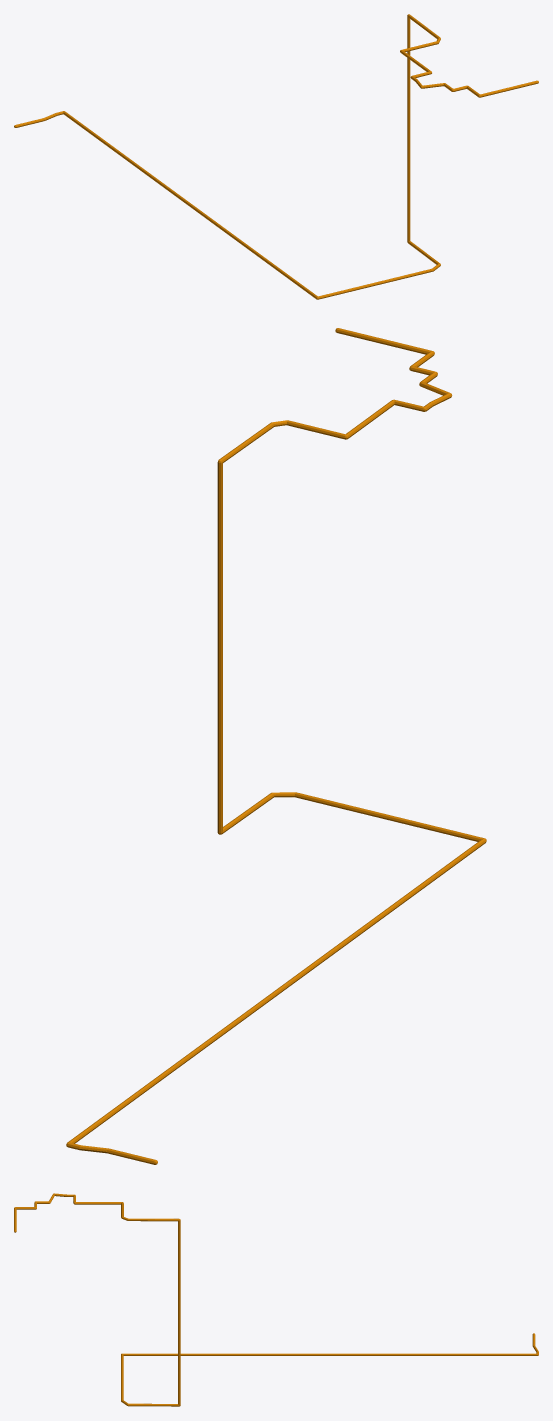
3 views of the same model, one above another, from view 1: azimuth 30°, elevation 25°; view 2: azimuth 150°, elevation 25°; view 3: azimuth 270°, elevation 25° (orthographic). The views are drawn at different scales.
Size of the model in its own units: 1445 by 1520 by 3854.
